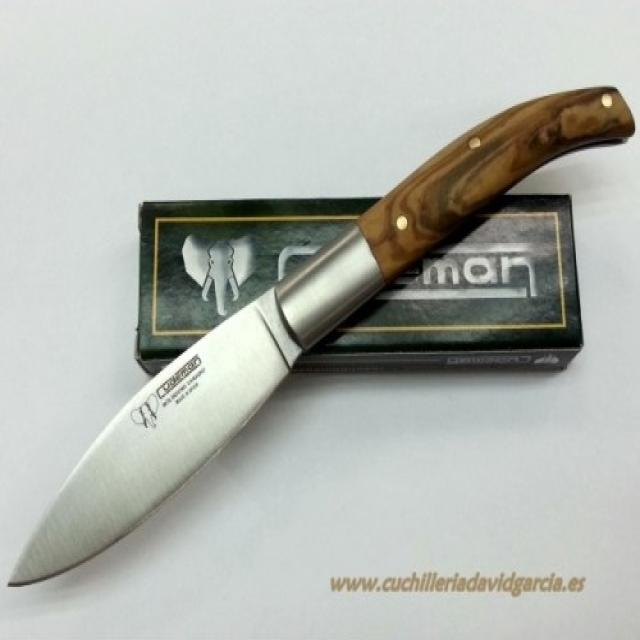knife: (8, 79, 626, 595)
